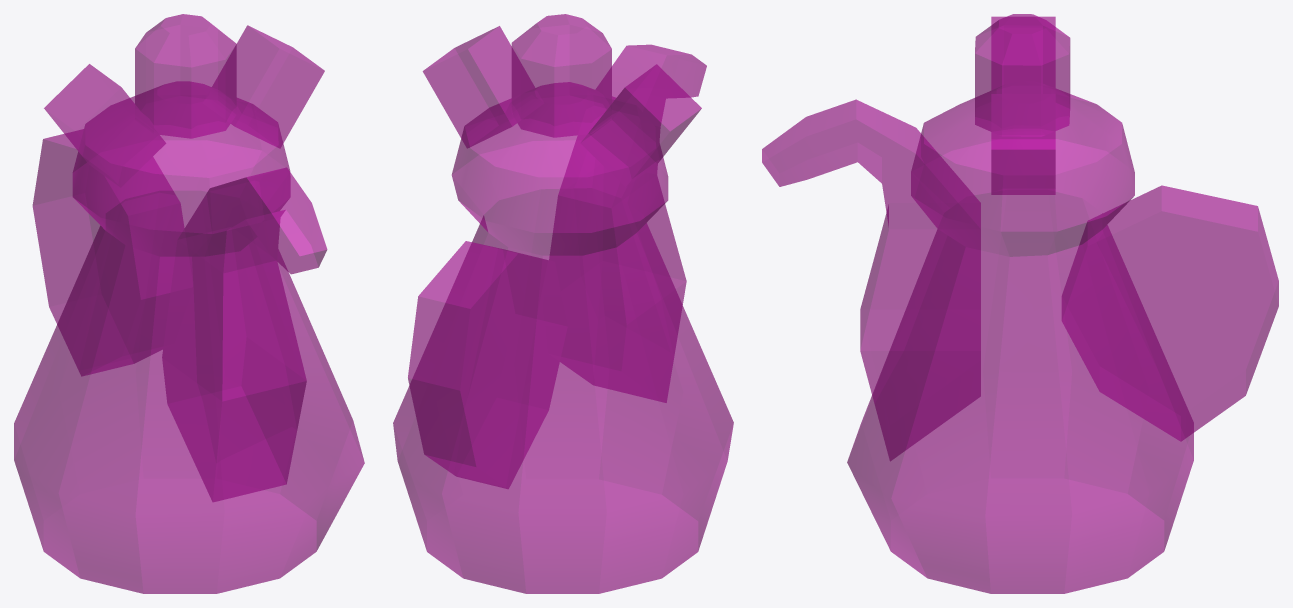
Rendered from SM_Prop_Teacup_Ride_01_Teapot_01_Collision.fbx.
The picture shows the model from 3 angles, left to right: view 1: azimuth 30°, elevation 25°; view 2: azimuth 150°, elevation 25°; view 3: azimuth 270°, elevation 25°; orthographic projection.
Visible parts, largest first — view 1: SM_Prop_Teacup_Ride_01_Teapot_01_Collision; view 2: SM_Prop_Teacup_Ride_01_Teapot_01_Collision; view 3: SM_Prop_Teacup_Ride_01_Teapot_01_Collision.
Boxes of the visible parts, bbox=[...] form: SM_Prop_Teacup_Ride_01_Teapot_01_Collision: bbox=[14, 14, 364, 593]; SM_Prop_Teacup_Ride_01_Teapot_01_Collision: bbox=[393, 14, 733, 593]; SM_Prop_Teacup_Ride_01_Teapot_01_Collision: bbox=[762, 14, 1278, 593].
Size of the model in its own units: 195 by 324 by 295.
